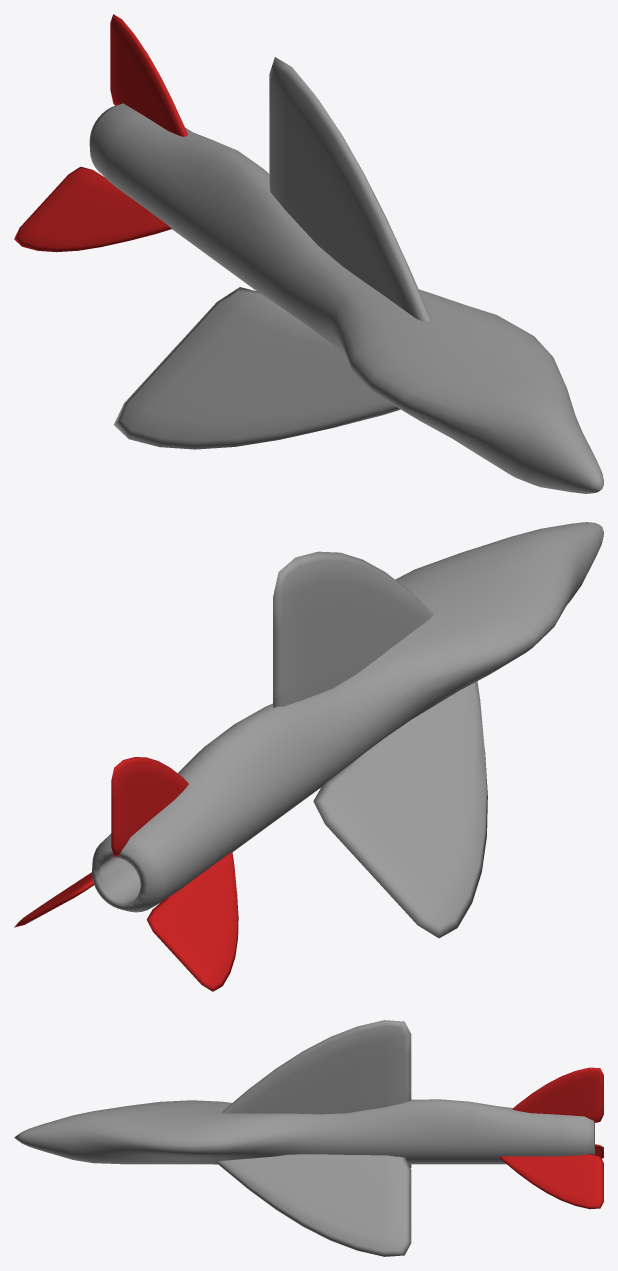
The model's file is missile.FBX.
The picture shows the model from 3 angles, top to bottom: view 1: azimuth 30°, elevation 25°; view 2: azimuth 150°, elevation 25°; view 3: azimuth 270°, elevation 25°; orthographic projection. The views are drawn at different scales.
Visible parts, largest first — view 1: Cylinder01, Box05, Box04, Box03, Box01; view 2: Cylinder01, Box05, Box04, Box03, Box01, Box02; view 3: Cylinder01, Box06, Box04, Box02, Box01.
Part boxes in pixels (left/top/right/bottom): Cylinder01: left=89, top=103, right=603, bottom=493; Box05: left=114, top=287, right=400, bottom=449; Box04: left=269, top=57, right=430, bottom=321; Box03: left=14, top=166, right=171, bottom=252; Box01: left=110, top=14, right=187, bottom=136; Cylinder01: left=92, top=522, right=603, bottom=912; Box05: left=313, top=681, right=487, bottom=938; Box04: left=273, top=551, right=433, bottom=707; Box03: left=146, top=852, right=238, bottom=991; Box01: left=111, top=757, right=188, bottom=856; Box02: left=14, top=872, right=93, bottom=927; Cylinder01: left=14, top=1099, right=594, bottom=1164; Box06: left=216, top=1154, right=411, bottom=1256; Box04: left=221, top=1020, right=411, bottom=1114; Box02: left=499, top=1153, right=603, bottom=1209; Box01: left=512, top=1067, right=603, bottom=1122.
Bounding box in the file's own units: 51.28 × 133 × 49.49.
